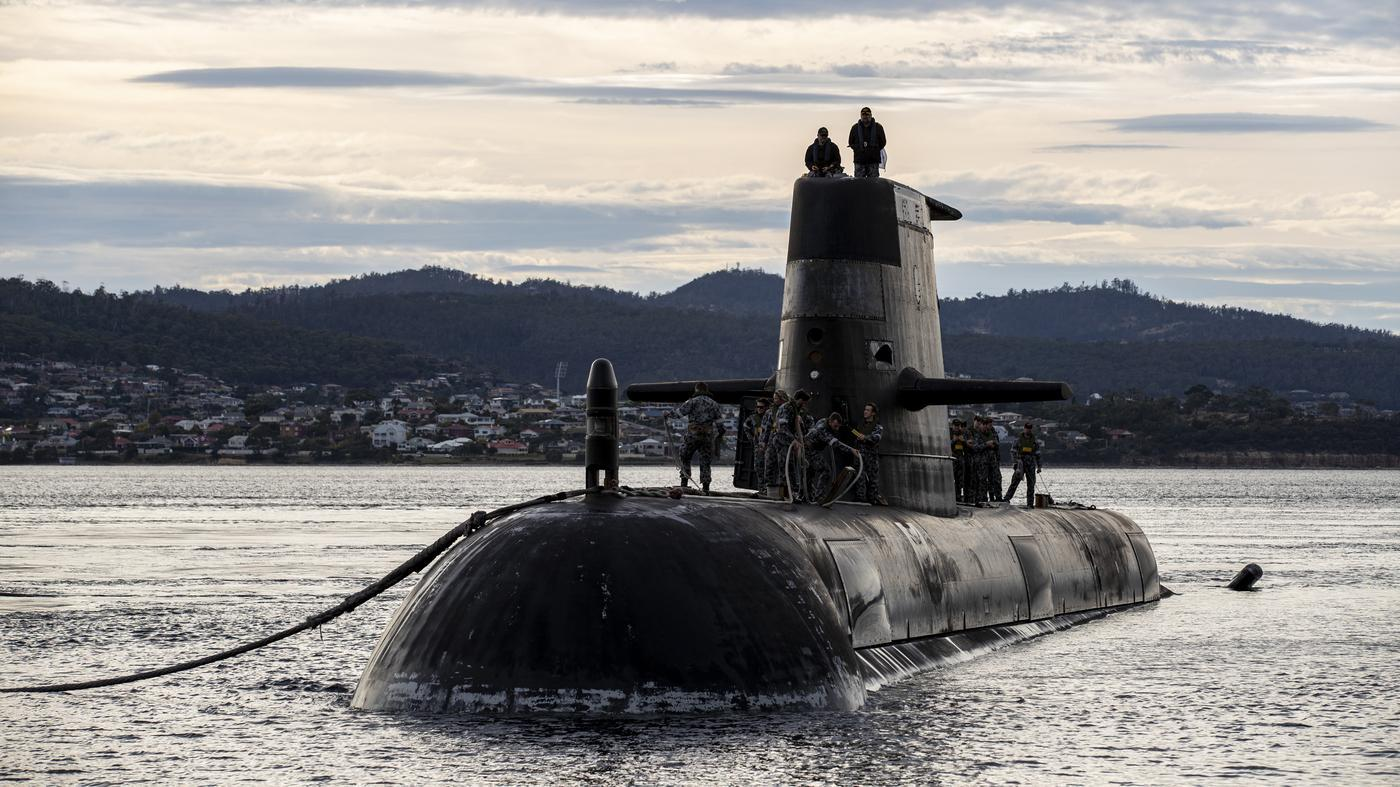Submarine: (294, 68, 1274, 747)
